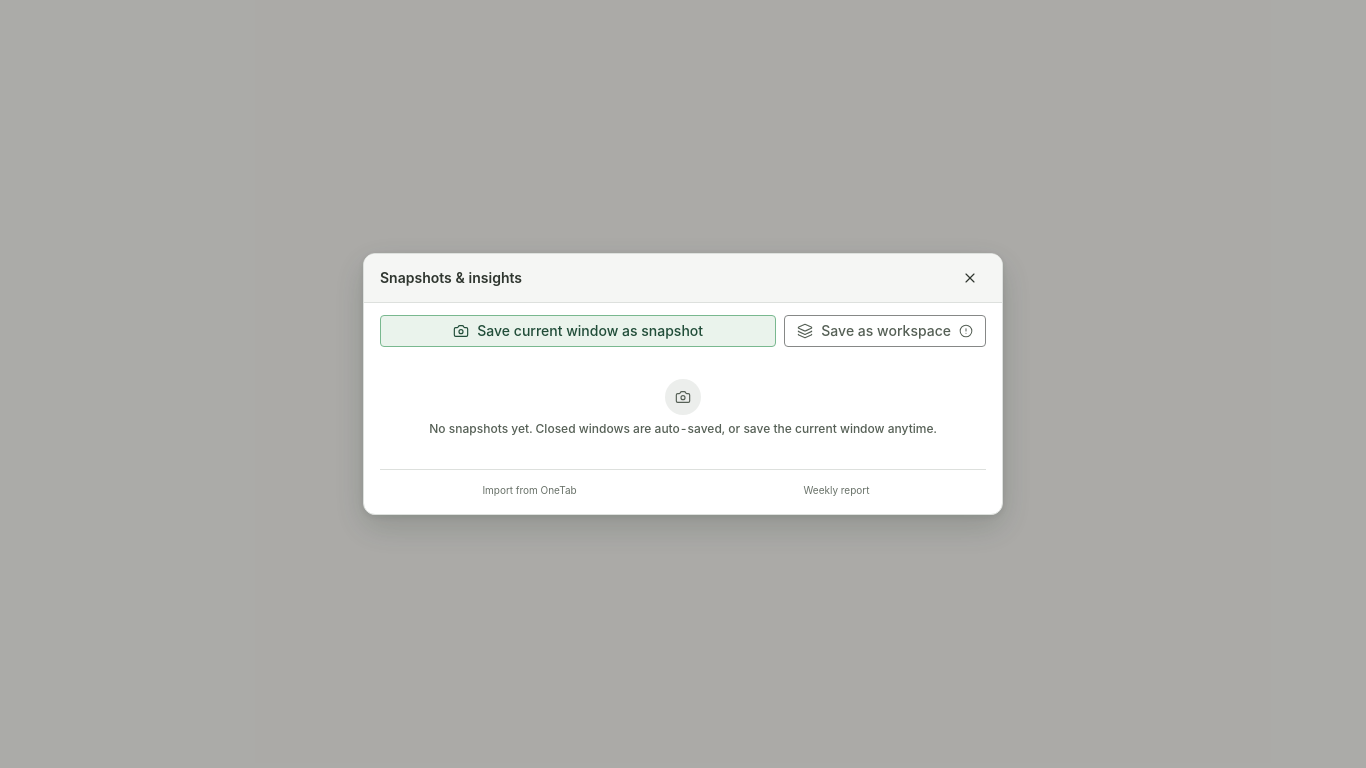
SnapshotsPanel 保存工作区在途互斥 › 连续点击期间只执行一次工作区保存
Click the button "Save as workspace" at (885, 331), box [784, 315, 986, 347]
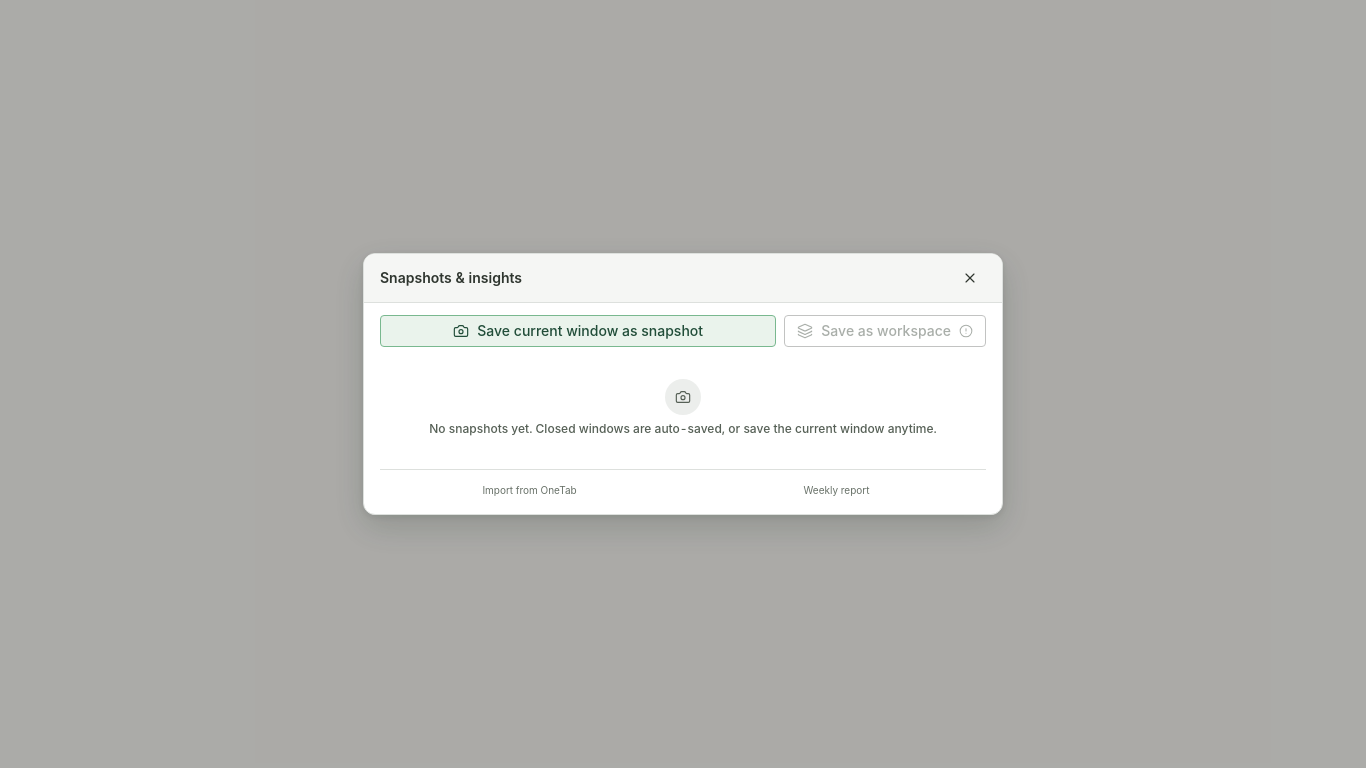
Click the button "Save as workspace" at (885, 331), box [784, 315, 986, 347]
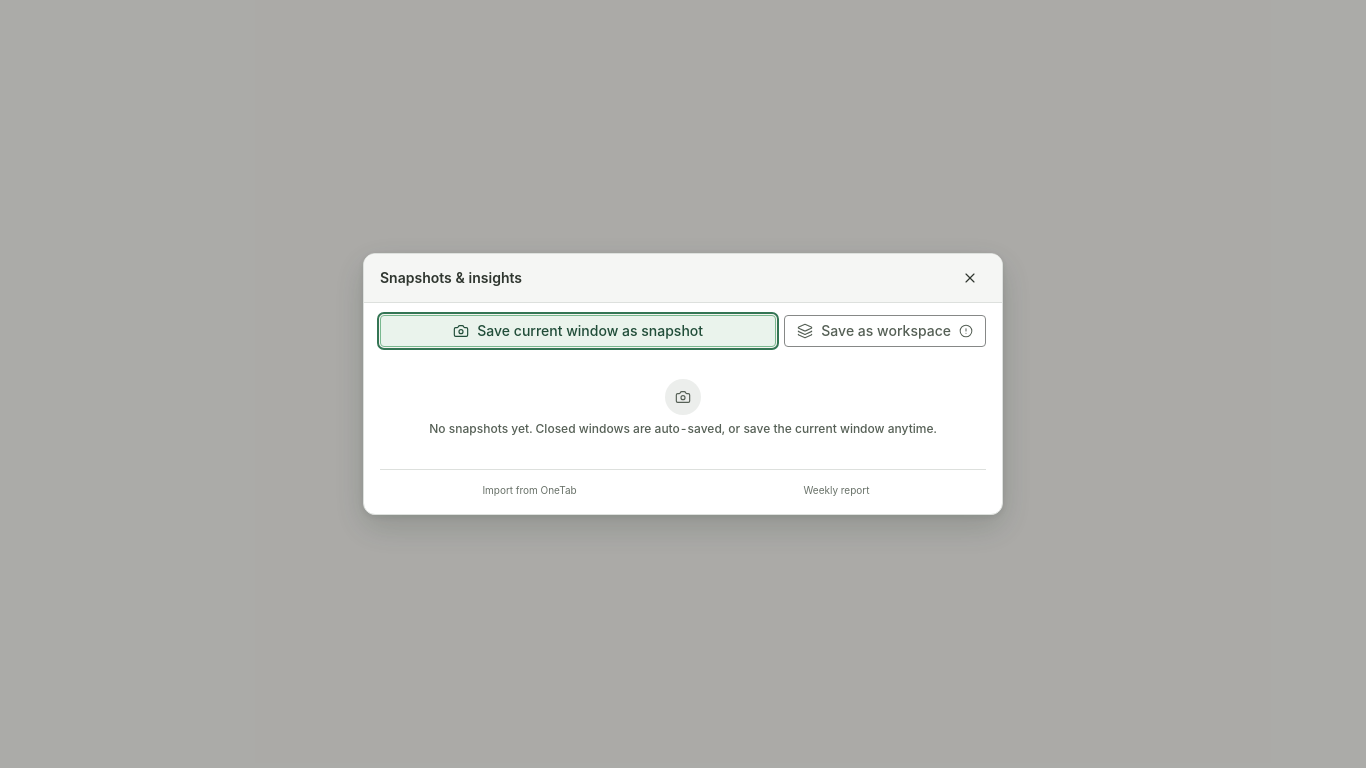
Expected: the button "Save as workspace" is enabled, [784, 315, 986, 347]
